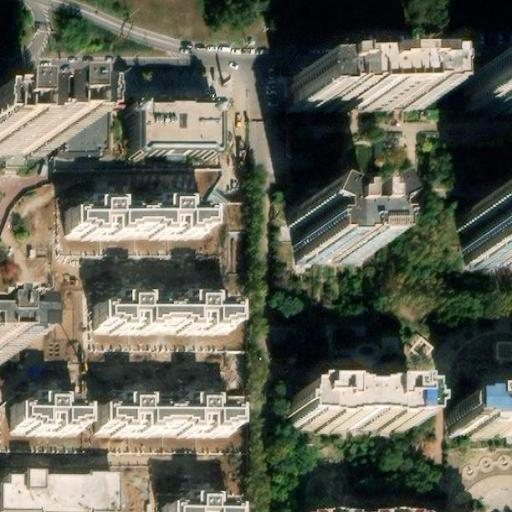building: (98, 395, 237, 436), (69, 196, 211, 235), (95, 291, 237, 330), (293, 391, 429, 430), (0, 471, 121, 512), (295, 201, 373, 262), (293, 73, 434, 106), (135, 102, 224, 154), (11, 396, 87, 432), (473, 201, 512, 258), (455, 401, 512, 435), (306, 498, 441, 512), (476, 66, 512, 104), (165, 497, 237, 512), (491, 340, 512, 365)
